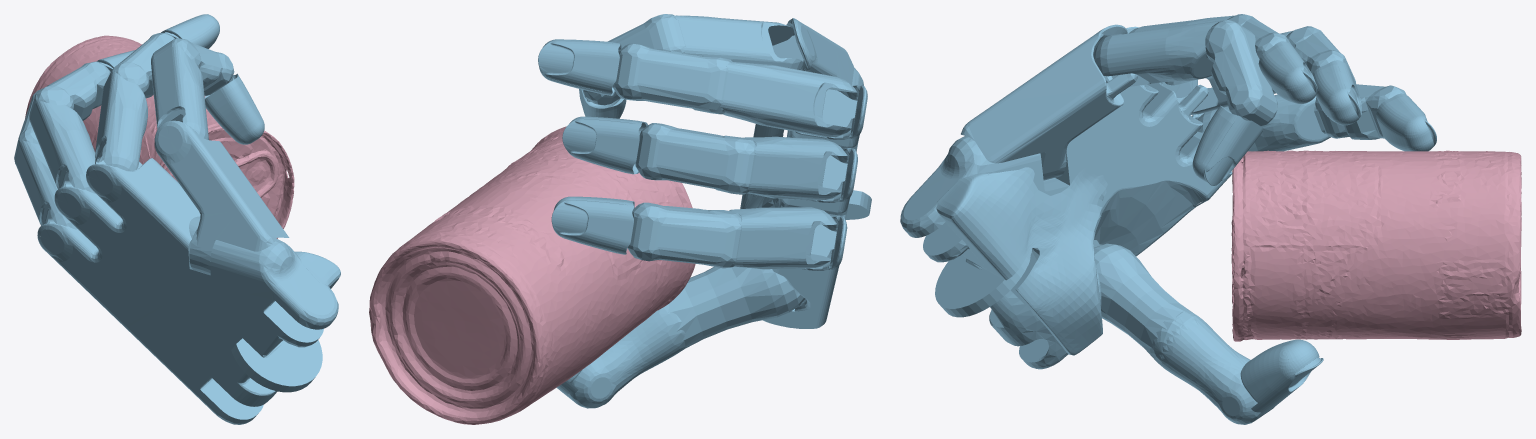
3 renders of one model, left to right at view 1: azimuth 30°, elevation 25°; view 2: azimuth 150°, elevation 25°; view 3: azimuth 270°, elevation 25°, orthographic. The views are drawn at different scales.
Parts seen in each view (by area): view 1: world; view 2: world; view 3: world.
Boxes of the visible parts, x1,y1,x2,y2 form: world: (14, 14, 340, 424); world: (369, 14, 871, 424); world: (900, 14, 1521, 424).
Size of the model in its own units: 0.12 by 0.1415 by 0.2182.
